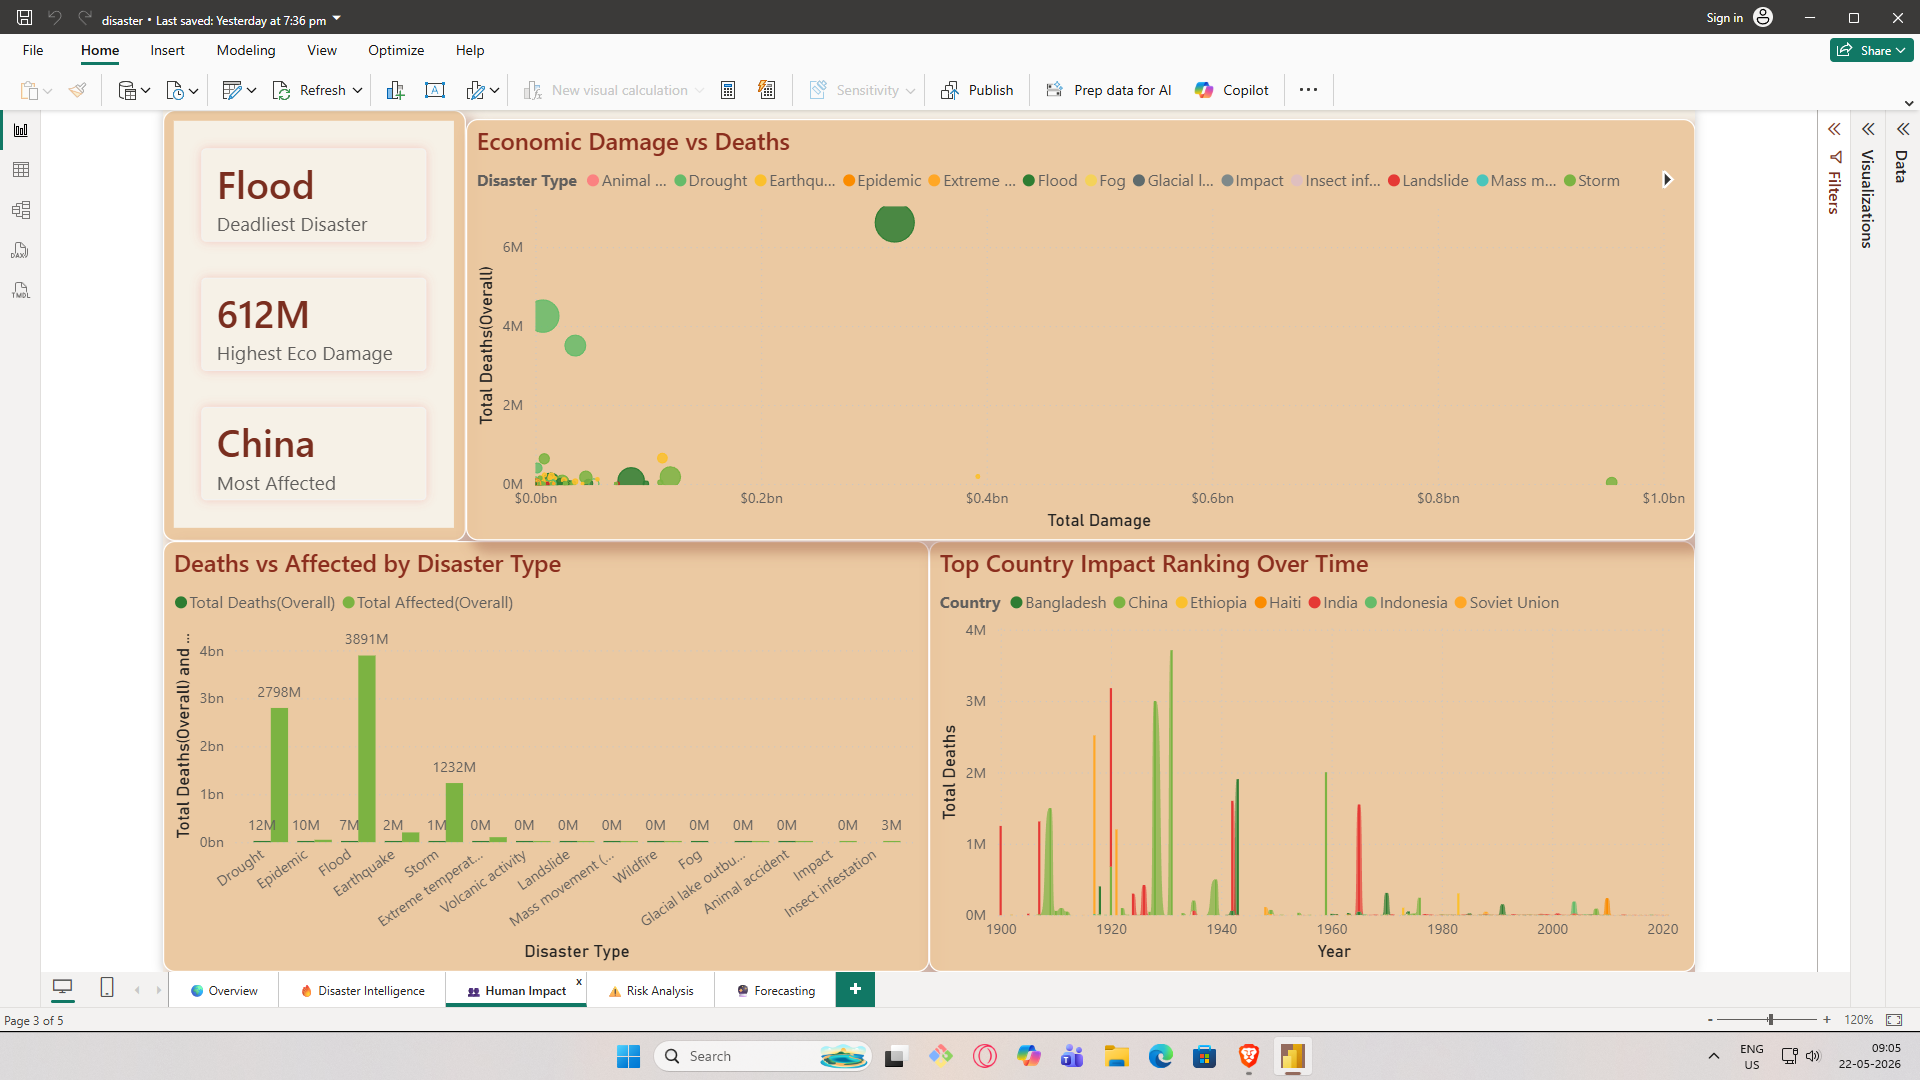

Layout of this report page (visuals, bound fields, positions):
{"tool":"powerbi","page":{"name":"👥 Human Impact","canvas":[1280,720],"ordinal":2},"visuals":[{"type":"cardVisual","fields":{"Data":["Data.Deadliest Disaster","Data.Highest Economic Damage","Min(Data.Country)"]},"box":[0,0,252.9,359.9],"z":0},{"type":"clusteredColumnChart","title":"Deaths vs Affected by Disaster Type","fields":{"Category":["Data.Disaster Type"],"Y":["Data.Total Deaths(Overall)","Data.Total Affected(Overall)"]},"box":[0,359.9,640,359.9],"z":1000},{"type":"ribbonChart","title":"Top Country Impact Ranking Over Time","fields":{"Category":["Data.Year"],"Series":["Data.Country"],"Y":["Sum(Data.Total Deaths)"]},"box":[640,359.9,640,359.9],"z":2000},{"type":"scatterChart","title":"Economic Damage vs Deaths","fields":{"X":["Data.Total Damage"],"Y":["Data.Total Deaths(Overall)"],"Size":["Data.Total Affected(Overall)"],"Category":["Data.Country"],"Series":["Data.Disaster Type"]},"box":[252.9,7.8,1027.1,352.1],"z":3000}]}

Visuals, with their boxes on the page's 1280x720 design canvas (x1, y1, x2, y2). These are canvas units, not pixel positions in the 1920x1080 screenshot, which may show the page scaled, cropped or inside an application window:
cardVisual - Data.Deadliest Disaster x Data.Highest Economic Damage: [x1=0, y1=0, x2=253, y2=360]
"Deaths vs Affected by Disaster Type" clusteredColumnChart: [x1=0, y1=360, x2=640, y2=720]
"Top Country Impact Ranking Over Time" ribbonChart: [x1=640, y1=360, x2=1280, y2=720]
"Economic Damage vs Deaths" scatterChart: [x1=253, y1=8, x2=1280, y2=360]
